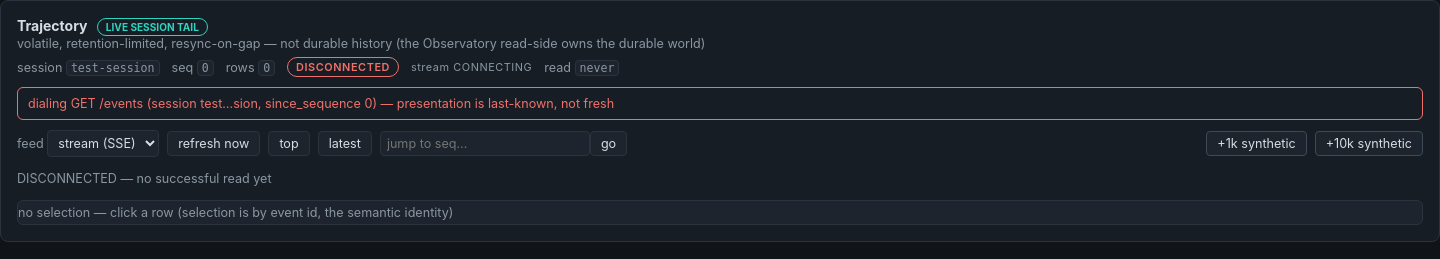
Scenario: the Trajectory surface (S0-2) › shows DISCONNECTED honestly when the gateway is down (never 'rejected')
Step 1. Select "poll 2s" in the dropdown named "feed transport" → (103, 144), box [47,130,159,157]
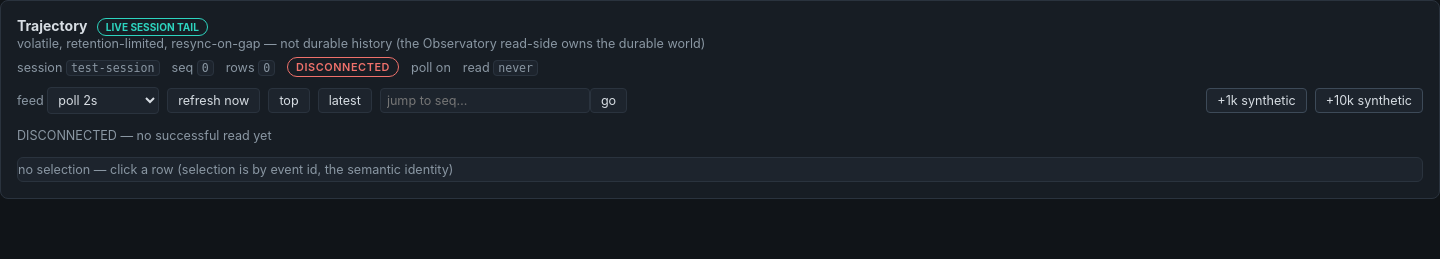
Step 2. Click the button "refresh now" → (214, 100), box [167,88,260,113]
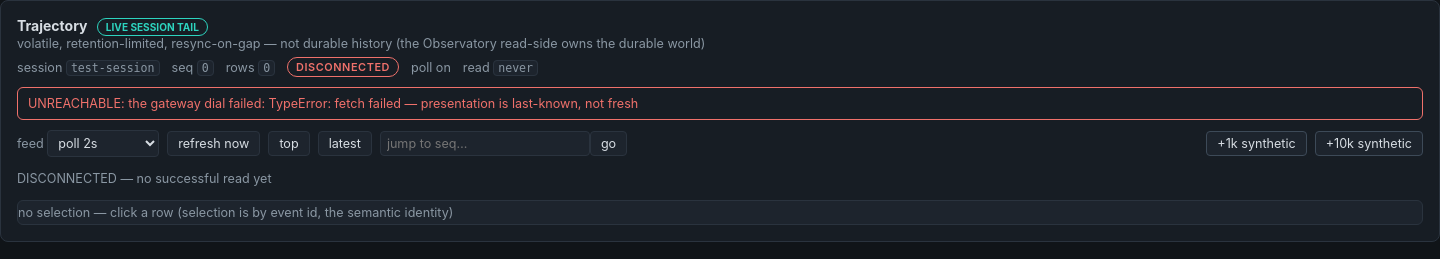
Expected: the text "DISCONNECTED — no successful read yet" is shown, [17,171,272,186]
Now the message is shown, box [17,87,1423,120]
Now the message shows "UNREACHABLE", box [28,96,401,111]
